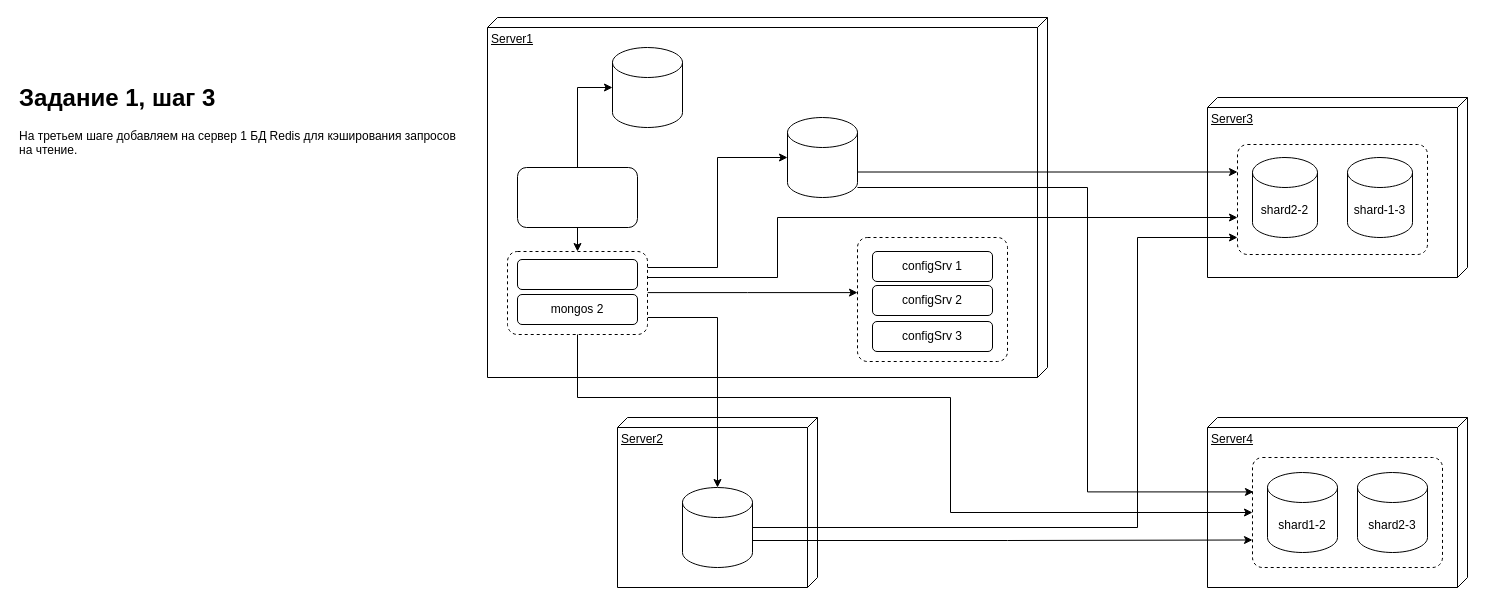
Image size: 1485x605. Some labels were removed from this diagram. Here are the shapes that lost their labels. From the top down, the centre of each, then its label:
At [647,87]: "redis".
At [822,157]: "shard1-1".
At [577,197]: "pymongo-api".
At [577,274]: "mongos 1".
At [717,527]: "shard2-1".
